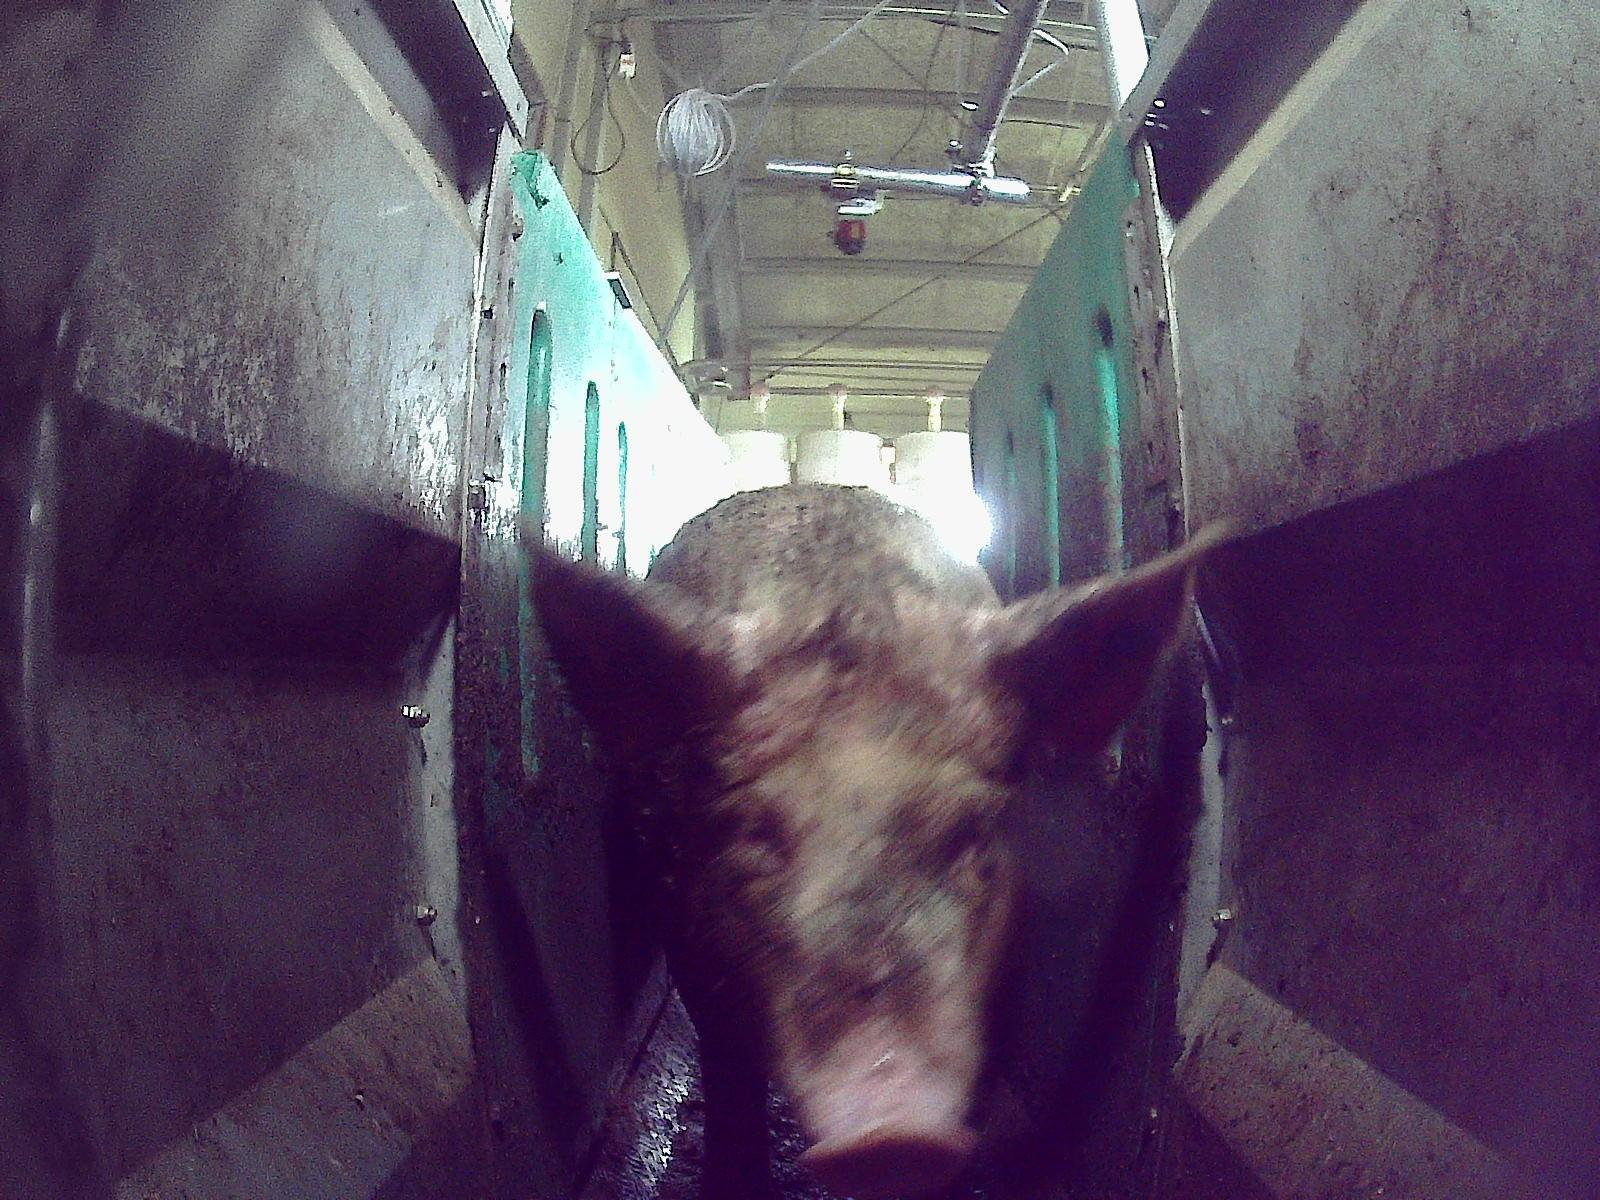Face: (683, 643, 1010, 1196)
